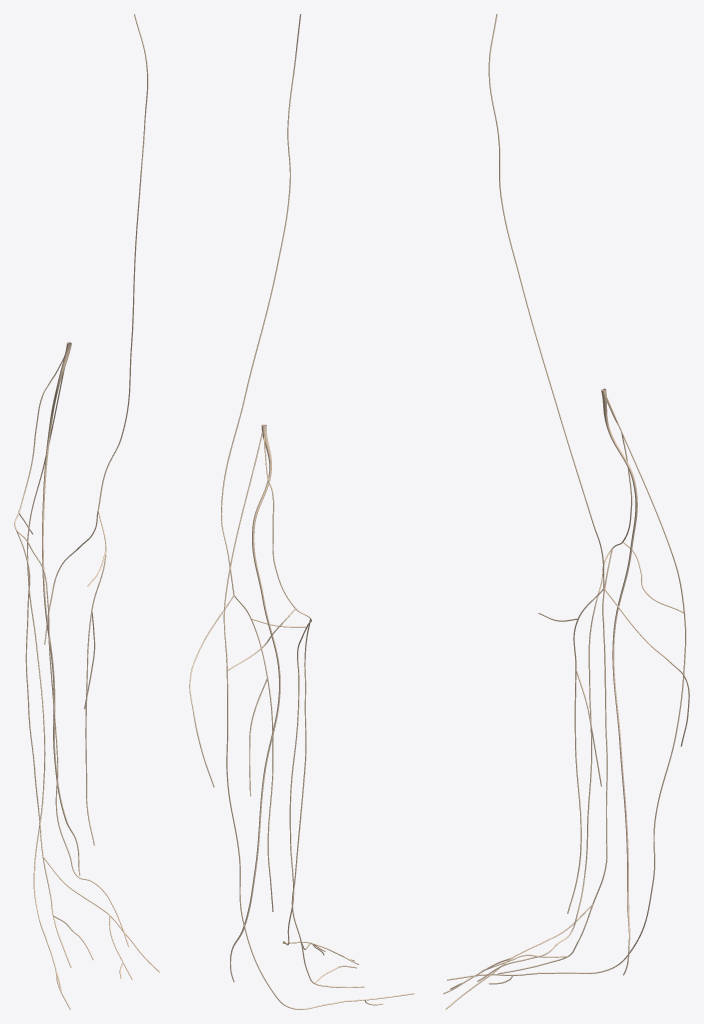
File: nerves.glb
The picture shows the model from 3 angles, left to right: view 1: azimuth 30°, elevation 25°; view 2: azimuth 150°, elevation 25°; view 3: azimuth 270°, elevation 25°; orthographic projection. The views are drawn at different scales.
Visible parts, largest first — view 1: Saphenous nerve.r, Tibial nerve.r, Sural nerve.r, Deep fibular nerve.r, Superficial fibular nerve.r, Medial dorsal cutaneous nerve of foot.r; view 2: Saphenous nerve.r, Tibial nerve.r, Sural nerve.r, Deep fibular nerve.r, Superficial fibular nerve.r; view 3: Saphenous nerve.r, Tibial nerve.r, Sural nerve.r, Deep fibular nerve.r, Superficial fibular nerve.r.
Boxes of the visible parts, x1,y1,x2,y2 form: Saphenous nerve.r: (44, 14, 148, 845); Tibial nerve.r: (42, 342, 80, 875); Sural nerve.r: (27, 466, 70, 1009); Deep fibular nerve.r: (15, 527, 129, 947); Superficial fibular nerve.r: (16, 531, 43, 856); Medial dorsal cutaneous nerve of foot.r: (43, 856, 160, 979); Saphenous nerve.r: (189, 14, 301, 911); Tibial nerve.r: (230, 424, 280, 981); Sural nerve.r: (223, 596, 414, 1009); Deep fibular nerve.r: (282, 619, 325, 951); Superficial fibular nerve.r: (291, 619, 310, 941); Saphenous nerve.r: (488, 14, 689, 913); Tibial nerve.r: (601, 388, 637, 975); Sural nerve.r: (447, 548, 686, 984); Deep fibular nerve.r: (477, 548, 611, 981); Superficial fibular nerve.r: (592, 549, 612, 904).
Size of the model in its own units: 0.1139 by 0.8488 by 0.1876.
